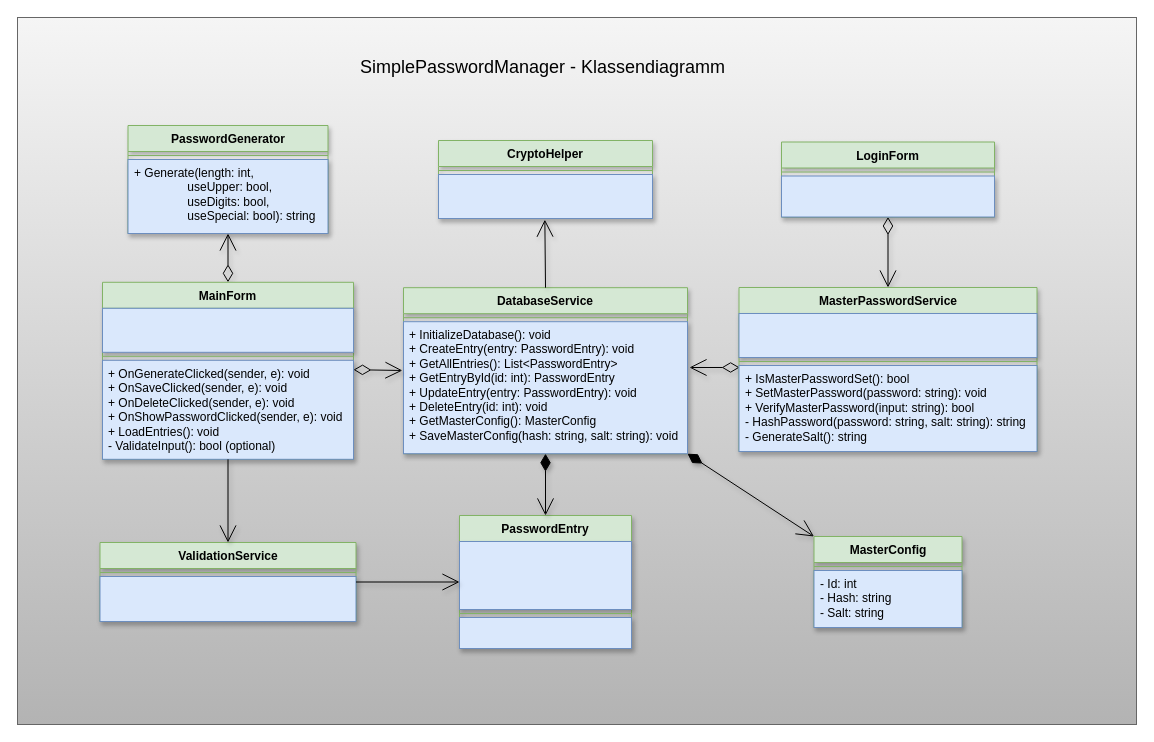
Some shapes in this 1154 by 742 pixel diagram are drawn without their labels. Here are the shapes that lost their labels. From the top down, the centre of each, then its label:
the point at 546,198: + Encrypt(plainText: string): string + Decrypt(cipherText: string): string
the point at 888,197: + OnLoginClicked(sender, e): void + OnTogglePasswordVisibility(): void
the point at 229,331: - generator: PasswordGenerator - dbService: DatabaseService
the point at 888,336: - dbService: DatabaseService - config: MasterConfig
the point at 546,576: - Id: int - Username: string - EncryptedPassword: string - Description: string
the point at 228,600: + IsValidEntry(entry: PasswordEntry): bool + IsValidPassword(pw: string): bool
the point at 546,634: + ToString(): string
